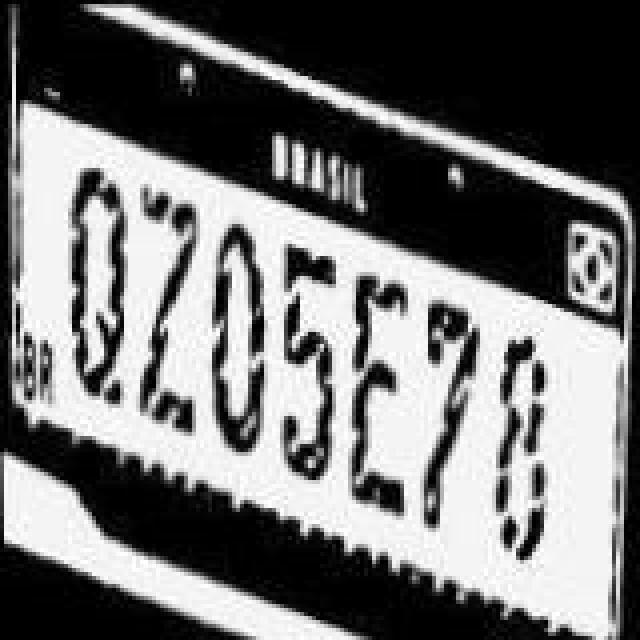5: (274, 242, 342, 486)
7: (416, 296, 484, 528)
8: (488, 330, 556, 562)
E: (344, 272, 412, 520)
O: (208, 222, 272, 466)
Q: (62, 162, 130, 410)
Z: (136, 180, 200, 436)
